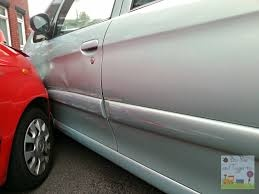Dent: (49, 50, 91, 88)
